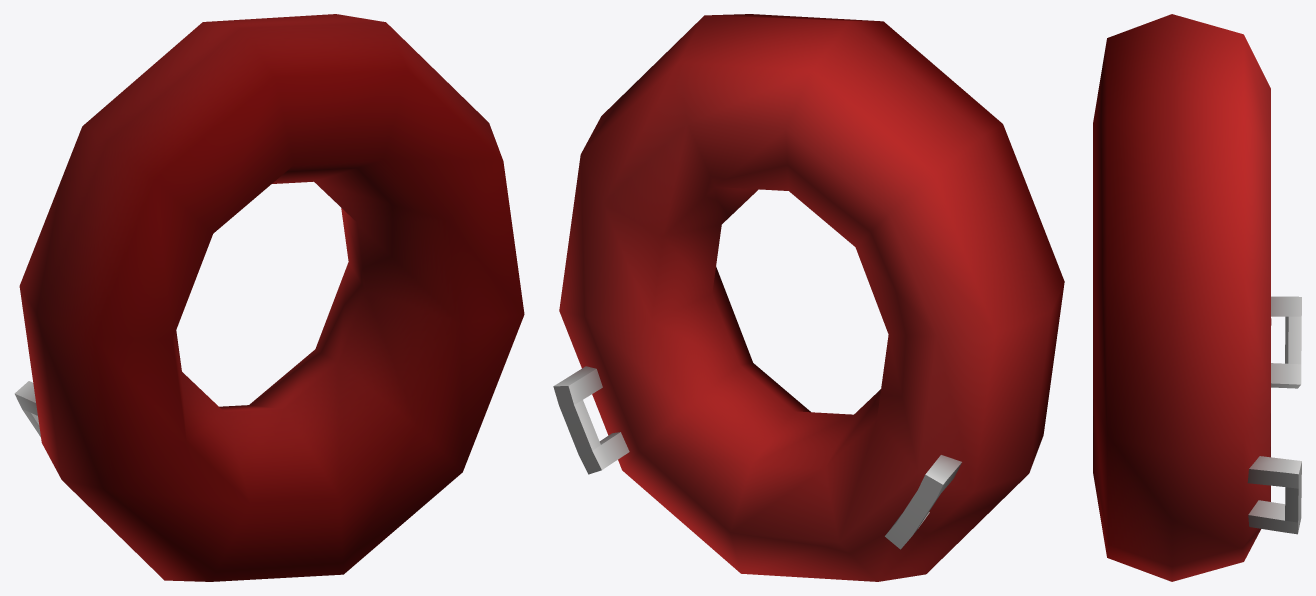
The model's file is ClassicTube.fbx.
The picture shows the model from 3 angles, left to right: view 1: azimuth 30°, elevation 25°; view 2: azimuth 150°, elevation 25°; view 3: azimuth 270°, elevation 25°; orthographic projection. The views are drawn at different scales.
Parts seen in each view (by area): view 1: ClassicTube; view 2: ClassicTube; view 3: ClassicTube.
Boxes of the visible parts, x1,y1,x2,y2 form: ClassicTube: (14,14,524,581); ClassicTube: (553,14,1064,581); ClassicTube: (1093,14,1301,581).
Size of the model in its own units: 90.76 by 104 by 36.65.
